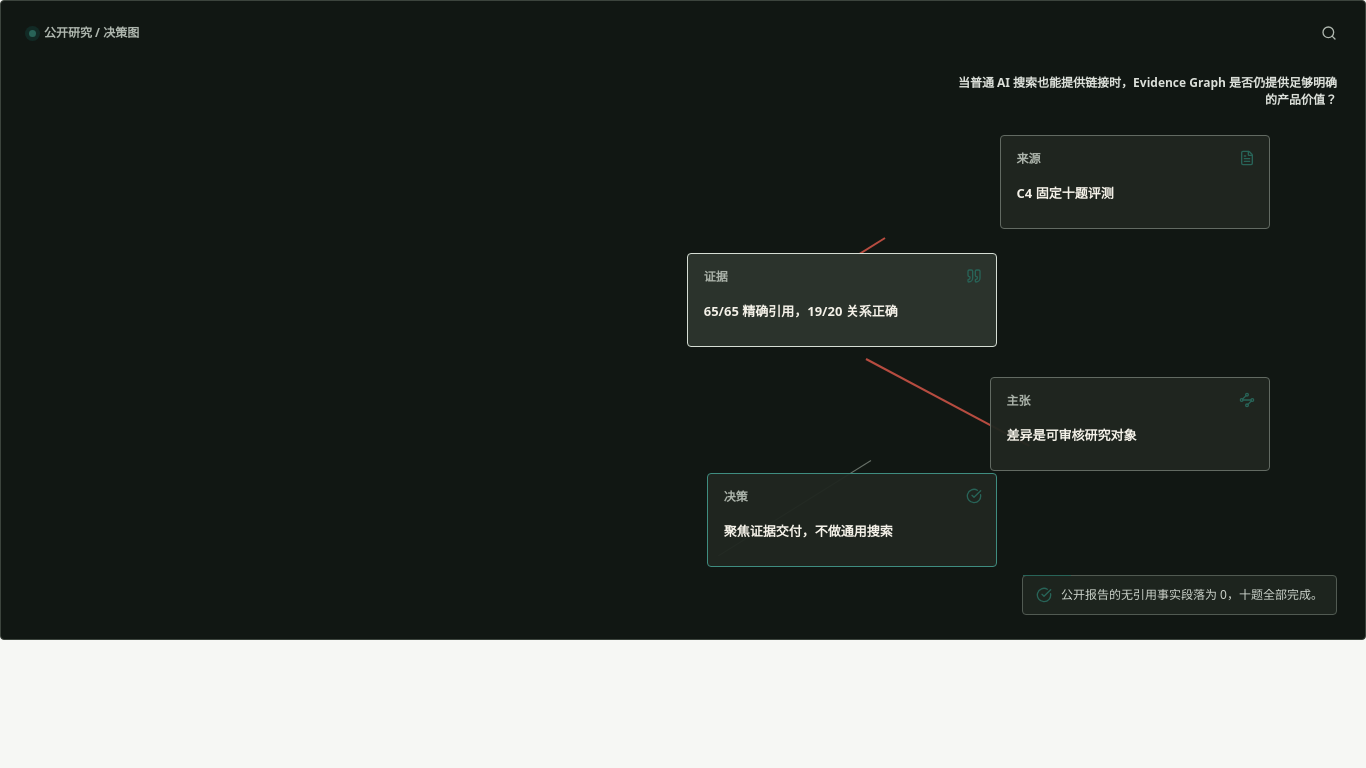
Scenario: public case portfolio UI › renders and inspects the real source to decision graph
Expected: the text "65/65 精确引用，19/20 关系正确" is shown, x1=704 y1=302 x2=898 y2=320
Click the button "决策 聚焦证据交付，不做通用搜索".
click(852, 520)  # box x1=707 y1=473 x2=997 y2=567
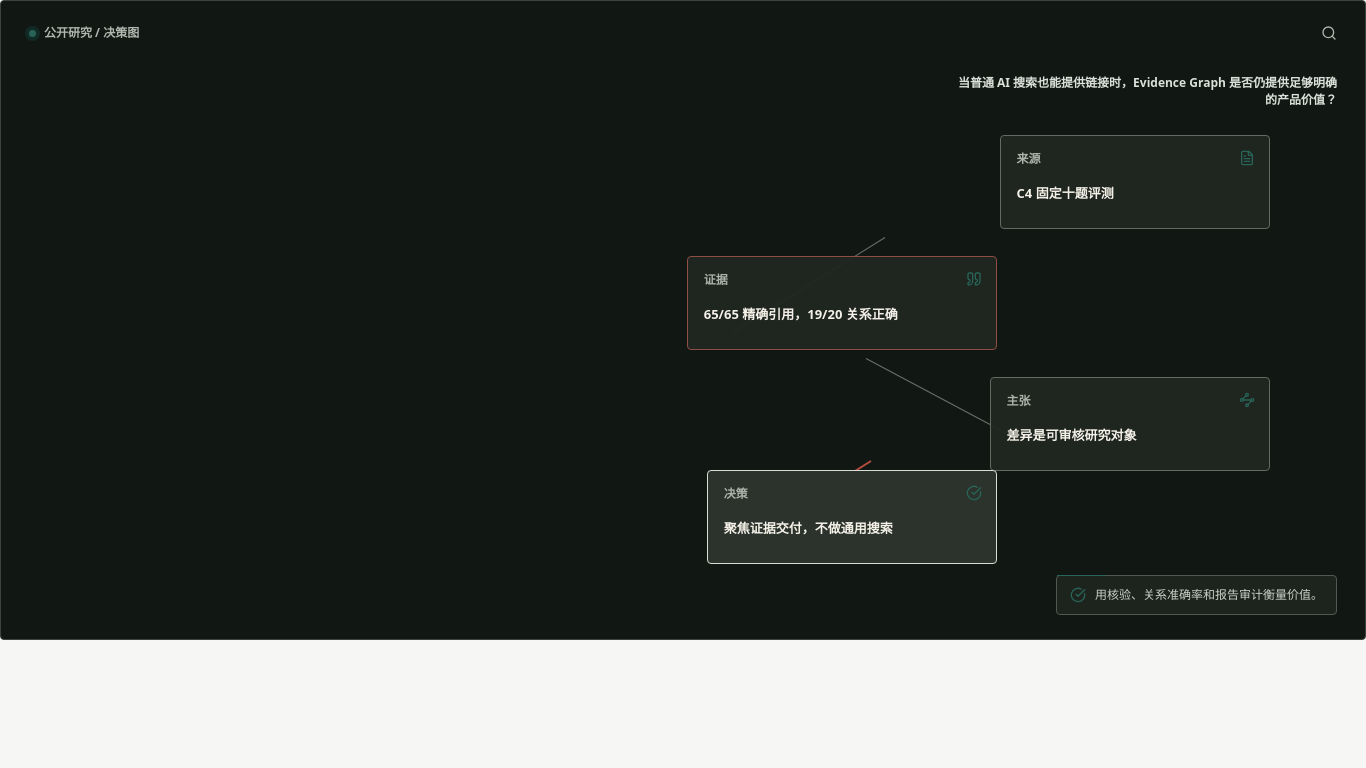
Expected: the message reads "用核验、关系准确率和报告审计衡量价值。", x1=1095 y1=586 x2=1323 y2=603
